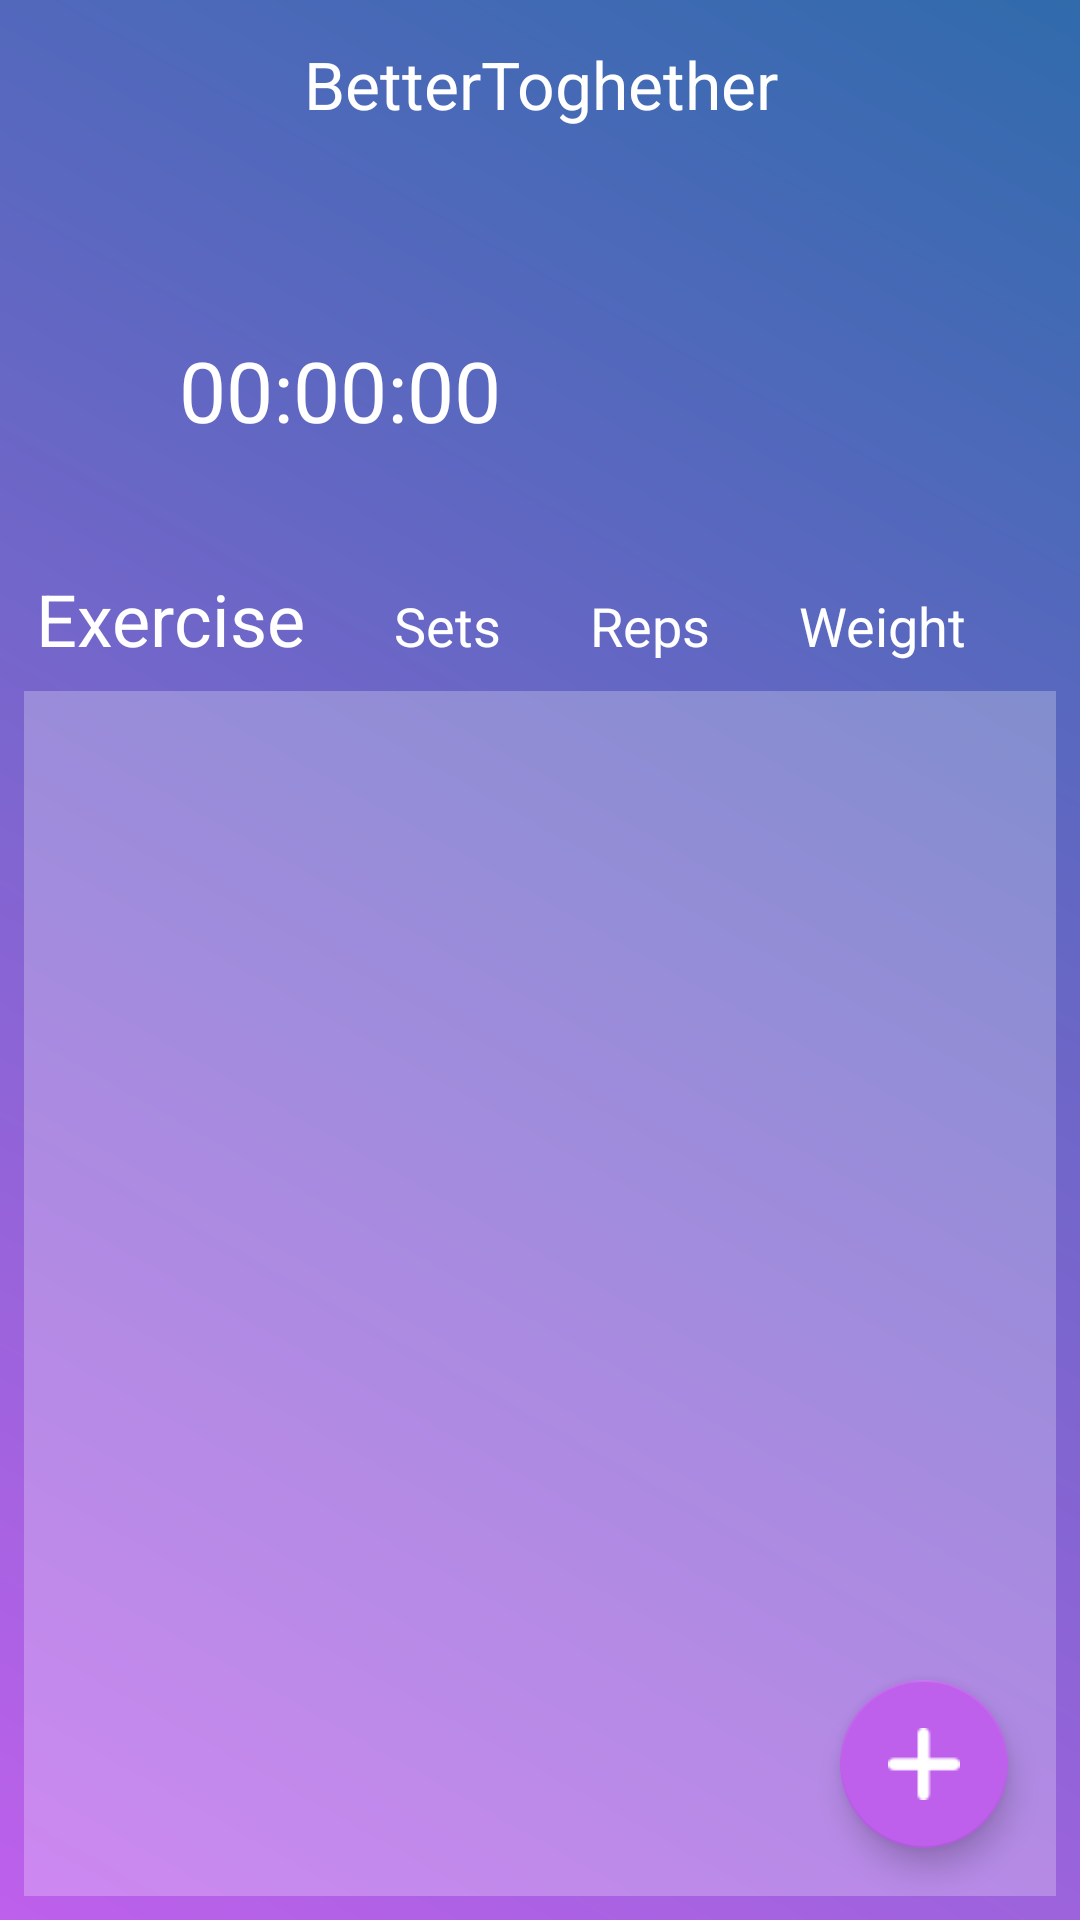

Where icons sit on this 1080 × 1920 app screen, as (x1, y1, x2, y2):
plus sign: (840, 1682, 1008, 1848)
